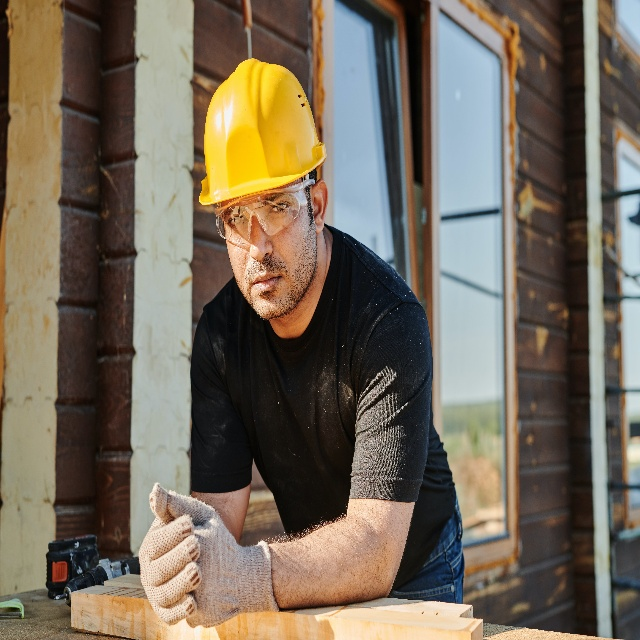Gafas: (213, 186, 314, 242)
Guantes: (167, 491, 273, 632), (139, 482, 200, 630)
